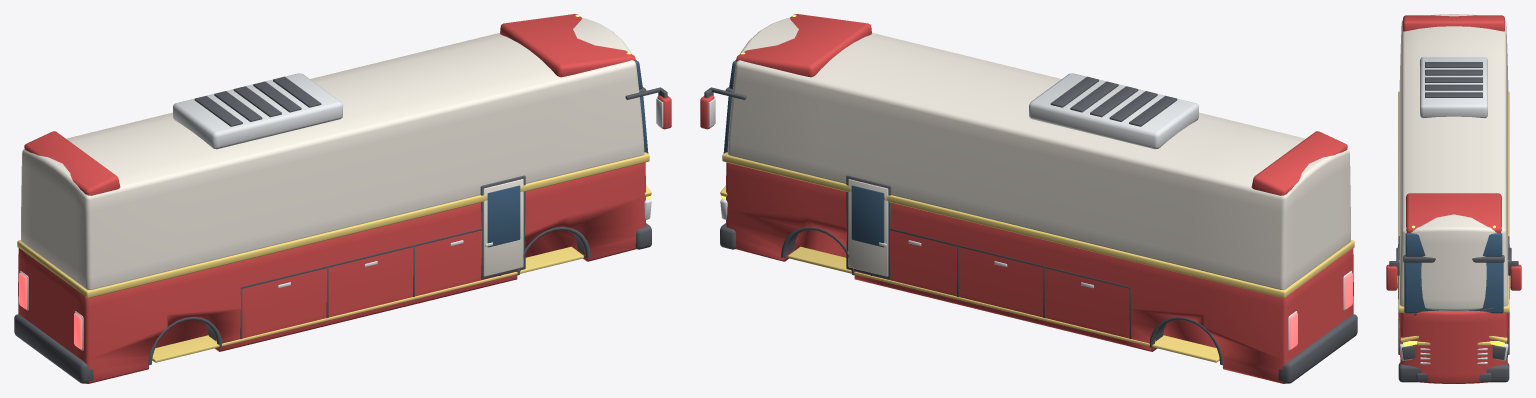
Rendered from bus_coach.glb.
3 views of the same model, side by side, from view 1: azimuth 30°, elevation 25°; view 2: azimuth 150°, elevation 25°; view 3: azimuth 270°, elevation 25° (orthographic). The views are drawn at different scales.
Parts seen in each view (by area): view 1: Bus_BusCream, Bus_BusRed, Bus_BusDark, Bus_BusGold, Bus_BusRoofAC, Bus_BusGlass, Bus_BusChrome, Bus_BusTail; view 2: Bus_BusCream, Bus_BusRed, Bus_BusDark, Bus_BusGold, Bus_BusRoofAC, Bus_BusGlass, Bus_BusChrome, Bus_BusTail; view 3: Bus_BusCream, Bus_BusRed, Bus_BusDark, Bus_BusGlass, Bus_BusRoofAC, Bus_BusGold, Bus_BusChrome, Bus_BusAmber.
Boxes of the visible parts, <box> form: Bus_BusCream: <box>21,18,644,289</box>; Bus_BusRed: <box>18,14,671,383</box>; Bus_BusDark: <box>14,76,667,383</box>; Bus_BusGold: <box>17,152,651,362</box>; Bus_BusRoofAC: <box>173,73,342,149</box>; Bus_BusGlass: <box>487,60,648,247</box>; Bus_BusChrome: <box>19,98,663,350</box>; Bus_BusTail: <box>19,272,82,349</box>; Bus_BusCream: <box>727,18,1350,289</box>; Bus_BusRed: <box>700,14,1353,383</box>; Bus_BusDark: <box>704,76,1357,383</box>; Bus_BusGold: <box>720,152,1354,362</box>; Bus_BusRoofAC: <box>1029,73,1198,149</box>; Bus_BusGlass: <box>723,60,884,247</box>; Bus_BusChrome: <box>708,98,1352,350</box>; Bus_BusTail: <box>1289,272,1352,349</box>; Bus_BusCream: <box>1398,14,1509,310</box>; Bus_BusRed: <box>1386,15,1521,383</box>; Bus_BusDark: <box>1389,62,1518,382</box>; Bus_BusGlass: <box>1398,233,1509,313</box>; Bus_BusRoofAC: <box>1420,57,1487,118</box>; Bus_BusGold: <box>1398,91,1509,345</box>; Bus_BusChrome: <box>1397,283,1510,364</box>; Bus_BusAmber: <box>1403,225,1504,346</box>.
Bounding box in the file's own units: 12.5 × 4.3 × 3.18.
